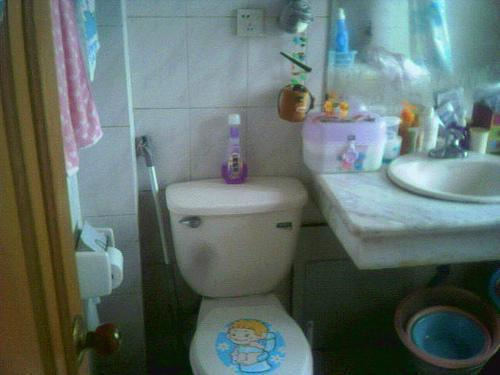Lavamanos: (384, 106, 499, 207)
